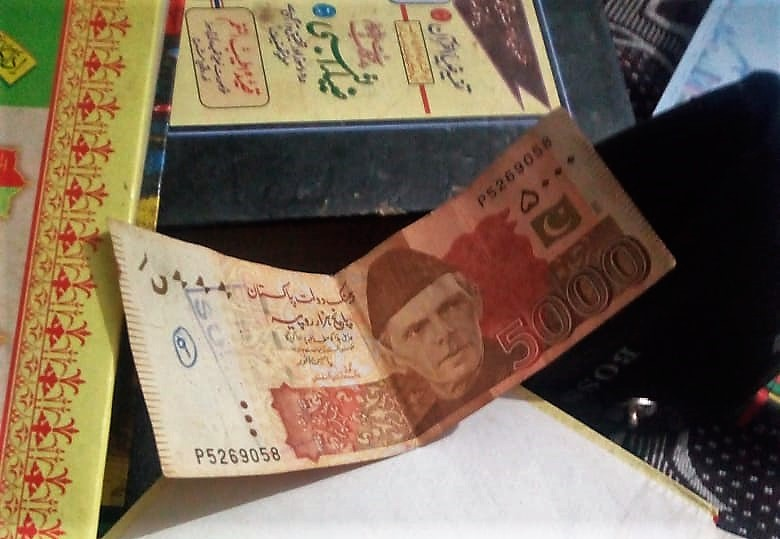5000 rupee: (93, 114, 693, 459)
